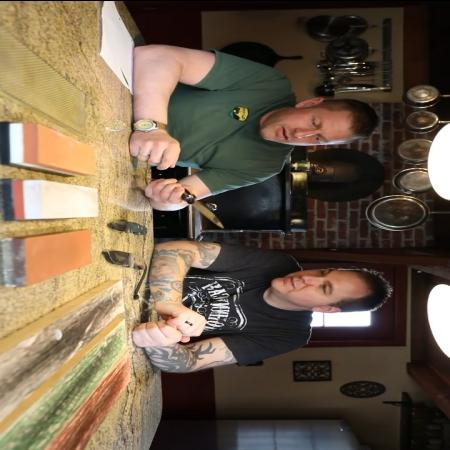long weapon: (164, 178, 234, 232)
